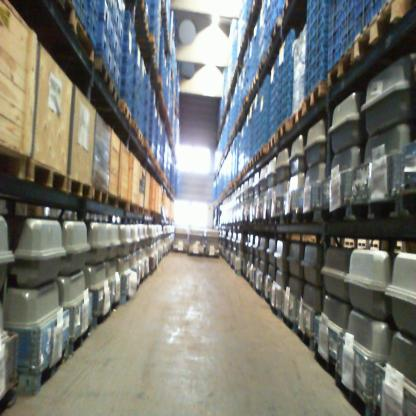pallet: (354, 0, 413, 58), (17, 343, 68, 396), (335, 369, 377, 416), (350, 189, 400, 220), (327, 44, 354, 92), (29, 157, 67, 191), (0, 142, 28, 179), (74, 13, 94, 64), (68, 316, 93, 356), (304, 80, 327, 114), (313, 345, 336, 379), (318, 200, 350, 222), (66, 176, 93, 199), (94, 54, 111, 89), (400, 181, 416, 217), (0, 384, 17, 416), (56, 0, 75, 28), (296, 323, 315, 351), (295, 202, 319, 224), (93, 306, 113, 331), (290, 102, 304, 133), (280, 310, 297, 333), (276, 118, 290, 141), (93, 185, 109, 204), (270, 18, 282, 43), (119, 99, 132, 122), (110, 80, 120, 107), (283, 207, 295, 225), (257, 57, 266, 75), (257, 144, 267, 160), (268, 134, 276, 151), (282, 0, 290, 17), (131, 117, 139, 134), (270, 213, 282, 224), (265, 41, 272, 59), (252, 72, 259, 90), (144, 14, 149, 38), (271, 305, 280, 318), (139, 0, 146, 16), (255, 286, 264, 298), (137, 129, 144, 144), (264, 293, 272, 306), (247, 84, 253, 99), (137, 205, 143, 215), (252, 154, 258, 164), (247, 159, 252, 171), (144, 207, 149, 216)
small_load_carrier: (356, 0, 372, 37), (341, 5, 355, 42), (97, 20, 108, 63), (342, 24, 356, 55), (328, 7, 342, 38), (328, 42, 342, 70), (76, 0, 88, 31), (328, 25, 341, 53), (314, 37, 328, 63), (88, 1, 99, 33), (315, 8, 328, 35), (87, 16, 98, 47), (315, 23, 328, 48), (314, 52, 328, 75), (99, 0, 109, 30), (341, 0, 355, 21), (315, 0, 328, 22), (314, 67, 328, 87), (284, 28, 295, 51), (106, 41, 113, 73), (306, 10, 315, 34), (304, 65, 314, 86), (283, 62, 293, 83), (306, 36, 314, 61), (304, 77, 314, 97), (283, 73, 293, 92), (305, 50, 314, 71), (306, 23, 315, 44), (110, 52, 117, 79), (329, 0, 341, 15), (283, 42, 293, 60), (283, 52, 293, 70), (109, 17, 115, 46), (283, 84, 292, 103), (307, 0, 315, 21), (118, 16, 124, 43), (113, 4, 120, 27), (283, 96, 292, 113), (113, 26, 118, 55), (108, 0, 116, 18), (283, 106, 292, 122), (89, 0, 99, 14), (277, 46, 283, 69), (116, 64, 121, 90), (117, 39, 122, 65), (117, 0, 125, 16), (277, 93, 283, 112), (277, 82, 283, 101), (277, 74, 283, 93), (277, 61, 283, 80), (277, 103, 283, 121), (277, 114, 283, 127), (82, 0, 89, 8)
